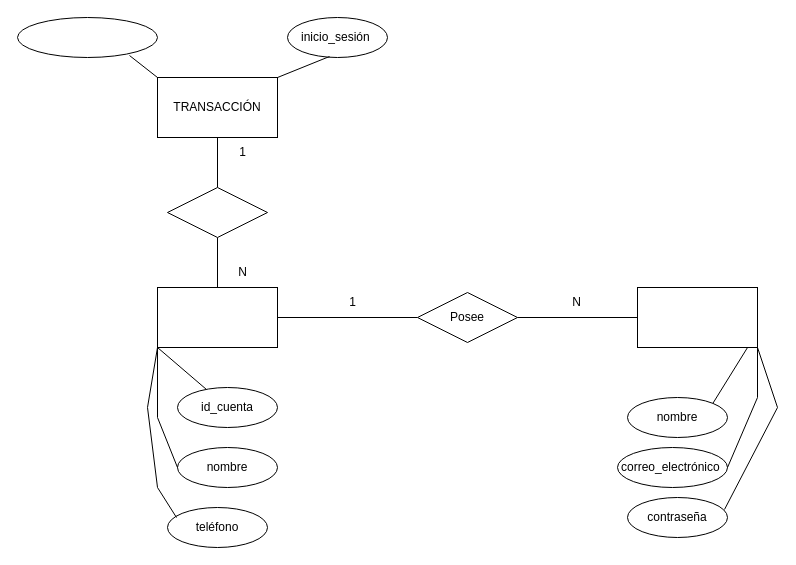
Some shapes in this 796 by 565 pixel diagram are drawn without their labels. The shapes that lost their labels are listed below. From the top down, each one's centre as x and y in pixels, then its label:
At (87,37): "transacción_realizada".
At (217,212): "Realiza".
At (217,317): "USUARIO".
At (697,317): "CUENTA".
